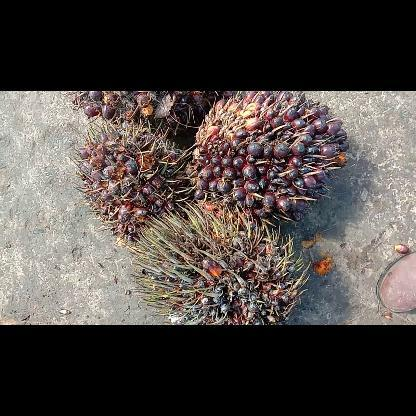Kurang masak: (192, 91, 348, 223), (77, 122, 183, 240)
TBS abnormal: (127, 204, 308, 324)
